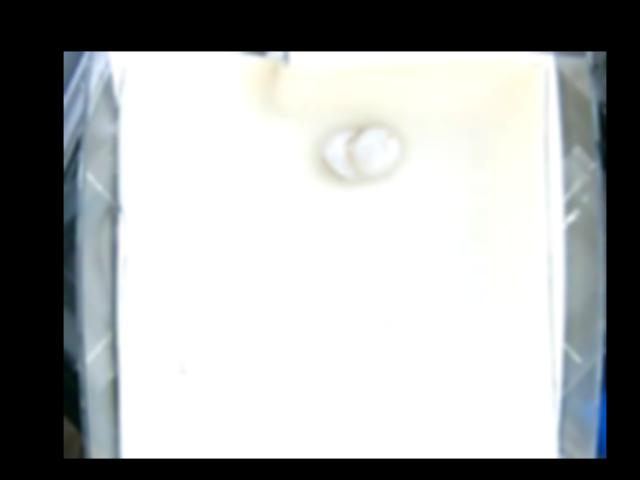Pebble: (325, 121, 397, 178)
